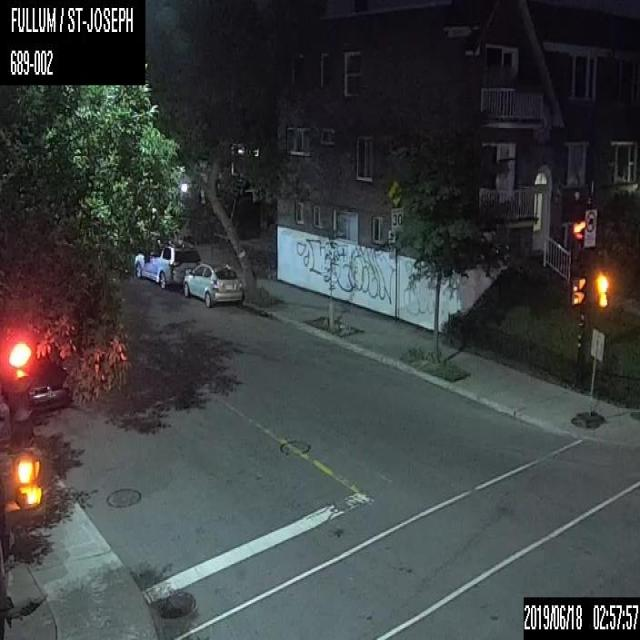construction: (572, 327, 606, 426)
vehicle: (133, 239, 201, 287), (182, 261, 245, 307), (28, 356, 75, 416)
